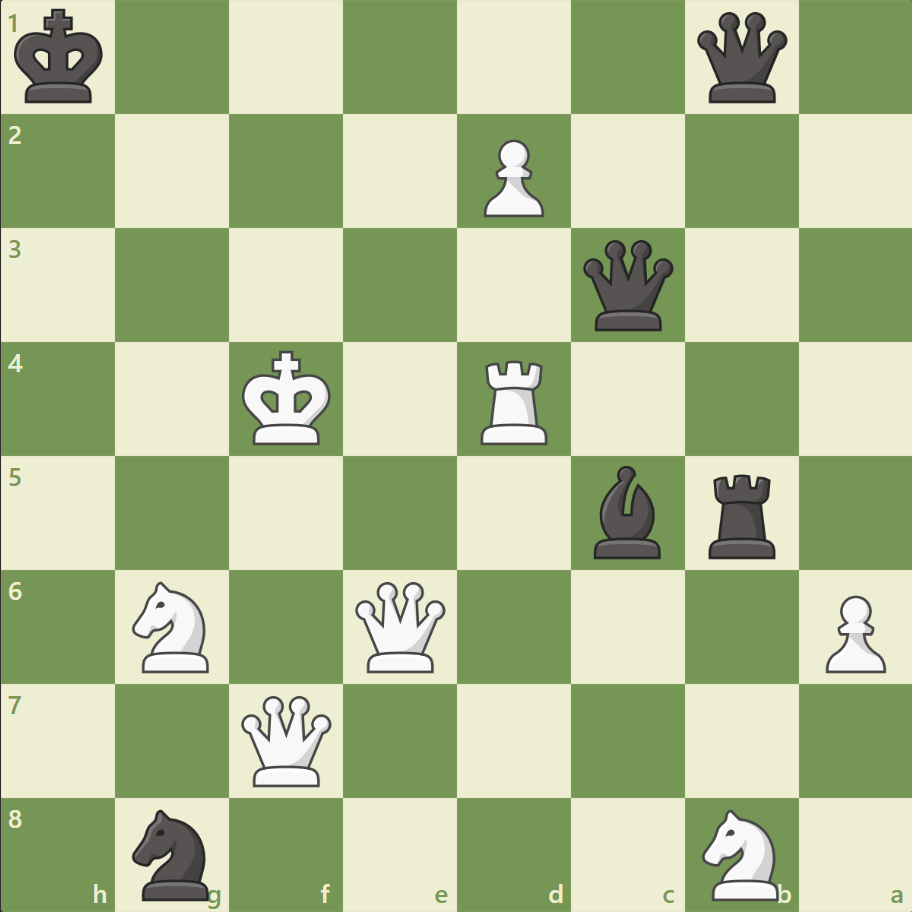K: (238, 344, 338, 452)
N: (124, 575, 222, 677), (692, 802, 789, 904)
P: (474, 132, 549, 223), (815, 586, 889, 677)
Q: (351, 576, 450, 676), (237, 690, 336, 789)
R: (473, 352, 556, 449)
b: (585, 460, 669, 563)
k: (11, 4, 111, 112)
n: (124, 802, 222, 904)
q: (578, 236, 677, 335), (691, 9, 790, 108)
r: (700, 466, 783, 563)
